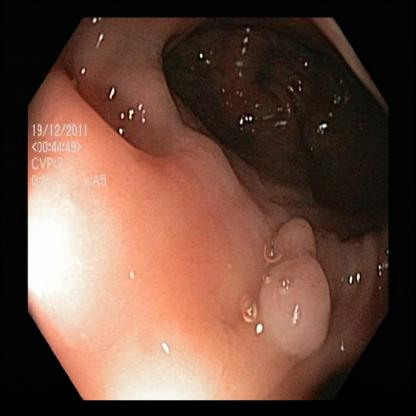Labels: (27, 111, 116, 205)
Polyps: (260, 216, 340, 353)
